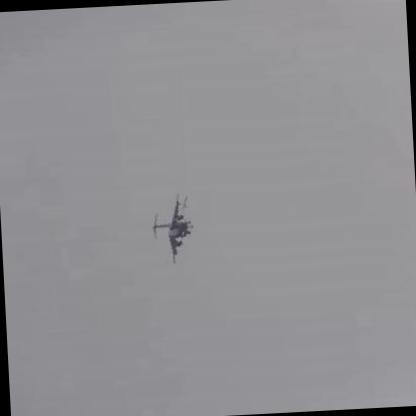plane: (144, 191, 198, 266)
